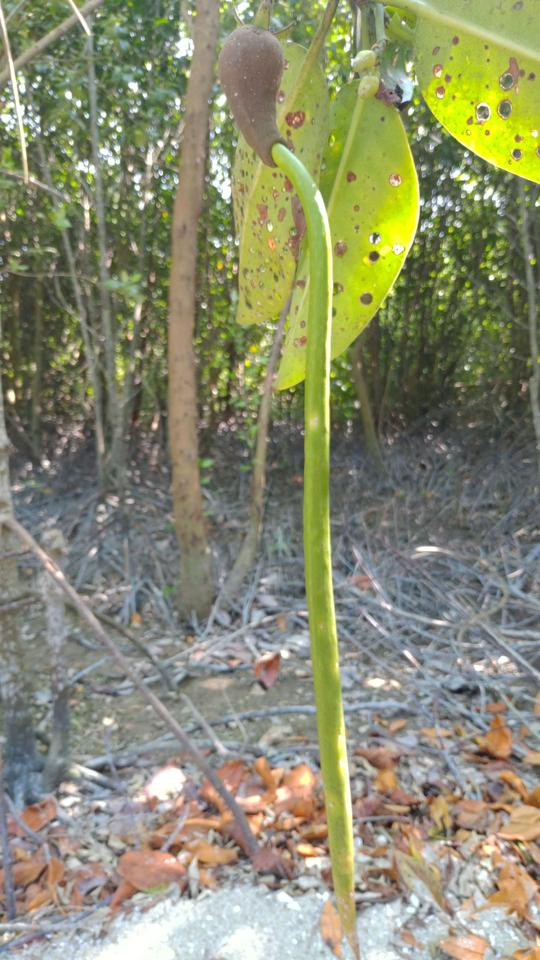mentah: (183, 12, 391, 959)
